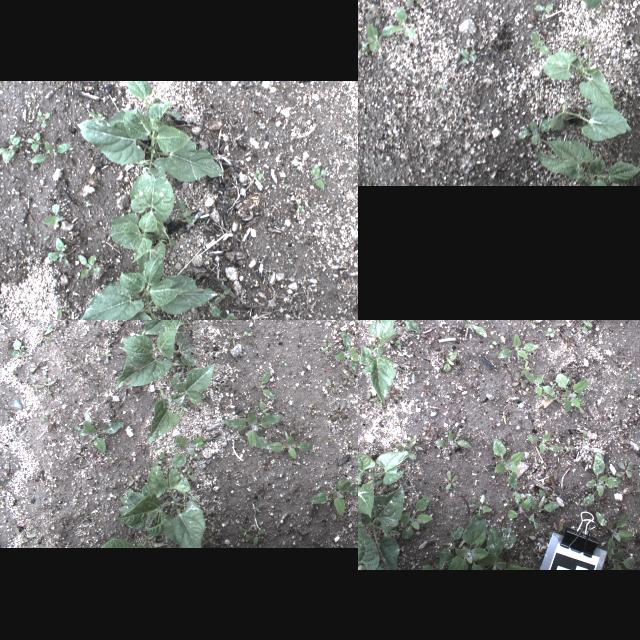crop: (76, 80, 224, 182), (78, 254, 221, 320), (102, 465, 206, 547), (109, 166, 175, 280), (358, 445, 411, 566), (149, 363, 215, 445), (114, 329, 198, 388), (536, 138, 640, 185), (542, 50, 612, 109), (551, 93, 631, 141), (360, 320, 400, 405)
weed: (424, 517, 488, 565), (478, 526, 532, 568), (582, 454, 624, 506), (506, 494, 566, 530), (224, 412, 282, 448), (594, 512, 636, 560), (74, 412, 124, 452), (396, 488, 434, 540), (308, 477, 358, 516), (494, 437, 524, 488), (558, 370, 590, 416), (496, 332, 538, 362), (331, 330, 358, 376), (362, 23, 404, 52), (267, 432, 313, 458), (432, 424, 476, 450), (522, 369, 558, 399), (30, 138, 72, 162), (518, 118, 554, 144), (524, 431, 564, 454), (172, 438, 204, 464), (393, 7, 415, 38), (609, 546, 640, 568), (256, 368, 276, 402), (7, 337, 27, 371), (0, 129, 20, 162), (43, 202, 67, 228), (614, 458, 638, 484), (437, 344, 459, 372), (174, 199, 196, 225), (51, 237, 70, 265), (78, 254, 100, 278), (528, 30, 550, 54), (210, 303, 241, 320), (470, 492, 494, 512), (463, 320, 490, 336), (363, 2, 381, 24), (310, 164, 324, 190), (535, 2, 553, 22), (330, 400, 348, 420), (36, 325, 54, 343), (36, 108, 50, 130), (26, 133, 42, 151), (179, 466, 197, 482), (444, 468, 456, 492), (34, 380, 54, 394), (459, 49, 478, 63), (216, 288, 230, 302), (340, 371, 354, 385), (89, 110, 105, 122), (21, 532, 37, 544), (327, 376, 337, 394), (252, 167, 264, 181), (30, 360, 44, 372), (239, 528, 253, 540), (39, 412, 55, 422), (255, 530, 265, 546), (578, 35, 590, 47), (152, 452, 164, 464), (128, 474, 138, 488), (226, 332, 236, 346), (404, 0, 424, 6), (321, 341, 333, 351), (260, 402, 270, 414), (218, 276, 228, 286), (434, 84, 444, 94), (613, 100, 621, 110), (100, 351, 112, 357), (95, 328, 104, 336), (636, 153, 640, 169), (108, 320, 123, 324), (108, 455, 115, 463), (281, 359, 289, 366), (299, 204, 305, 212), (244, 330, 252, 336), (254, 505, 262, 511), (309, 406, 315, 414), (287, 258, 293, 264), (44, 234, 50, 240), (25, 232, 33, 236)
